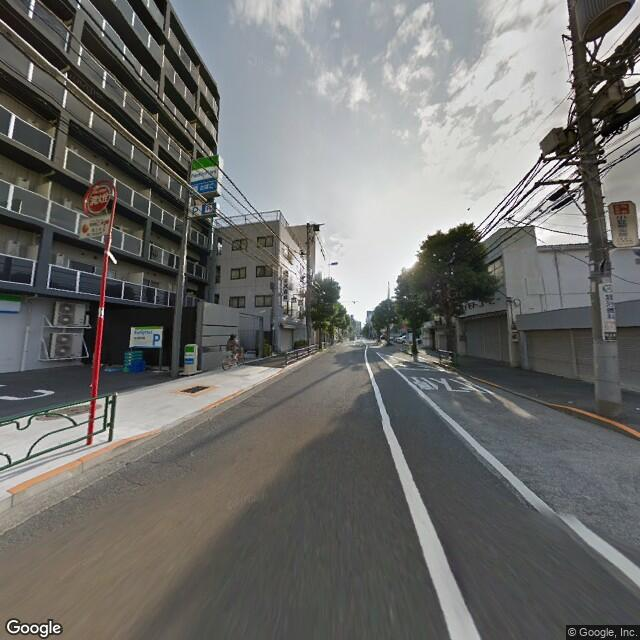family_mart: (186, 152, 223, 198)
